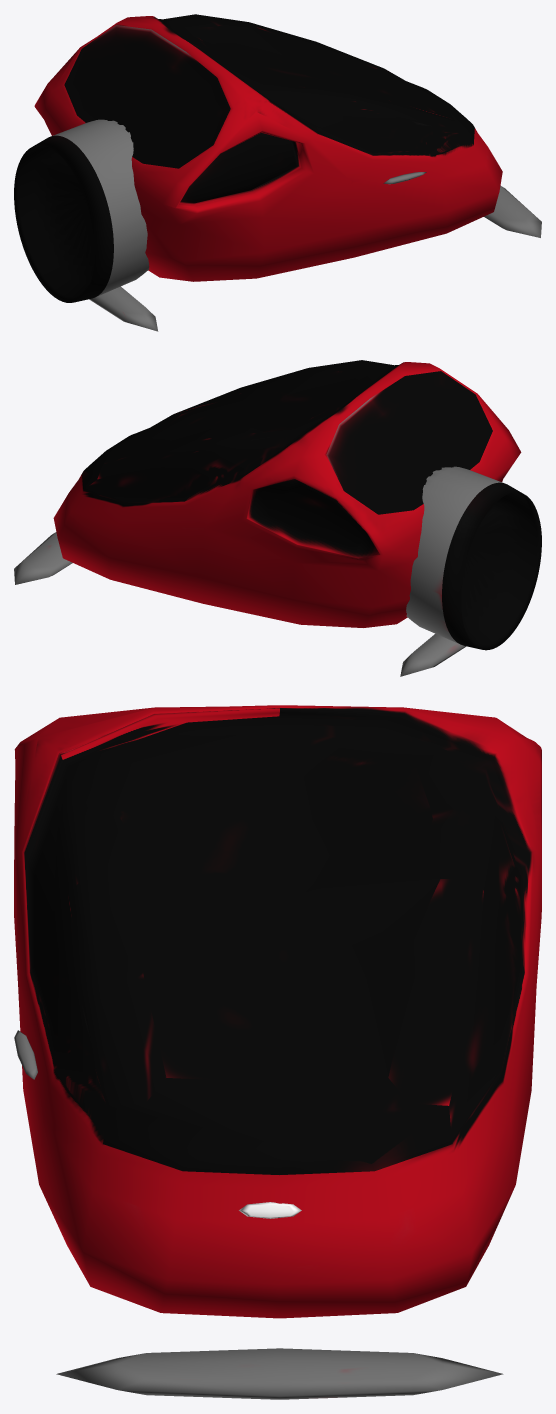
File: micro.fbx
The picture shows the model from 3 angles, top to bottom: view 1: azimuth 30°, elevation 25°; view 2: azimuth 150°, elevation 25°; view 3: azimuth 270°, elevation 25°; orthographic projection. The views are drawn at different scales.
Visible parts, largest first — view 1: Base; view 2: Base; view 3: Base.
Boxes of the visible parts, <box> form: Base: <box>14,14,541,331</box>; Base: <box>14,360,541,676</box>; Base: <box>14,705,541,1399</box>.
Size of the model in its own units: 607 by 292 by 331.
Materials: 1 (1 with a texture image).
